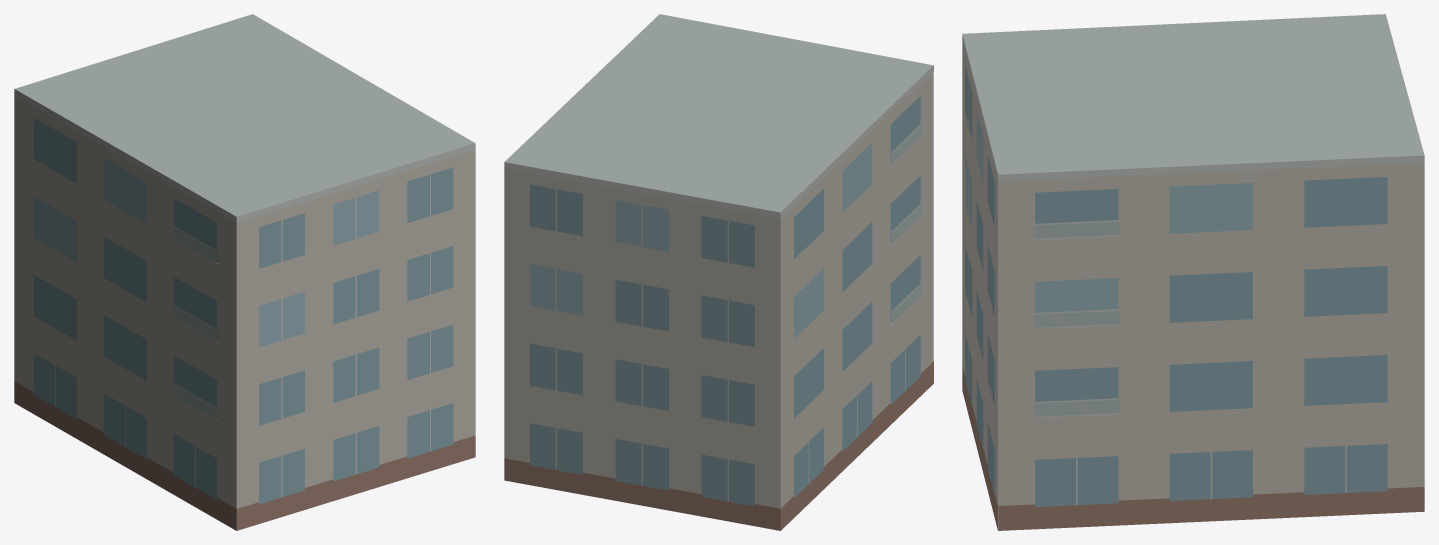
Rendered from survey-upis-32654808.glb.
3 views of the same model, side by side, from view 1: azimuth 30°, elevation 25°; view 2: azimuth 150°, elevation 25°; view 3: azimuth 270°, elevation 25° (orthographic). The views are drawn at different scales.
Visible parts, largest first — view 1: survey-upis-32654808.tmp; view 2: survey-upis-32654808.tmp; view 3: survey-upis-32654808.tmp.
Boxes of the visible parts, x1,y1,x2,y2 form: survey-upis-32654808.tmp: (14, 14, 475, 530); survey-upis-32654808.tmp: (504, 14, 933, 530); survey-upis-32654808.tmp: (962, 14, 1424, 530).
Size of the model in its own units: 11.71 by 12.1 by 14.24.
